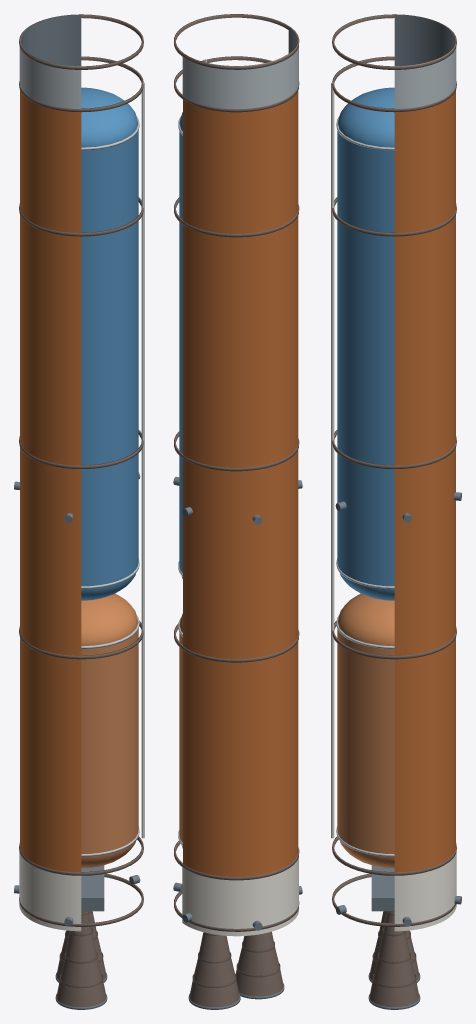
Rendered from atlas_v_core_cutaway.glb.
The picture shows the model from 3 angles, left to right: view 1: azimuth 90°, elevation 25°; view 2: azimuth 210°, elevation 25°; view 3: azimuth 270°, elevation 25°; orthographic projection.
Visible parts, largest first — view 1: atlas_v_core.mesh_Spray-on_insulation, atlas_v_core.cutaway.mesh_Cutaway_liquid_oxygen, atlas_v_core.cutaway.mesh_Cutaway_propellant, atlas_v_core.mesh_Heat-stained_alloy, atlas_v_core.mesh_Warm_white_enamel, atlas_v_core.rd180.chamber_01.bell.mesh_Heat-stained_alloy, atlas_v_core.mesh_Pale_thermal_blanket, atlas_v_core.mesh_Machined_steel, atlas_v_core.mesh_Satin_aluminum, atlas_v_core.rd180.mesh_Machined_steel, atlas_v_core.cutaway.mesh_Satin_aluminum, atlas_v_core.rd180.chamber_02.bell.mesh_Heat-stained_alloy; view 2: atlas_v_core.mesh_Spray-on_insulation, atlas_v_core.mesh_Warm_white_enamel, atlas_v_core.mesh_Satin_aluminum, atlas_v_core.mesh_Heat-stained_alloy, atlas_v_core.rd180.chamber_02.bell.mesh_Heat-stained_alloy, atlas_v_core.rd180.chamber_01.bell.mesh_Heat-stained_alloy, atlas_v_core.cutaway.mesh_Cutaway_liquid_oxygen, atlas_v_core.cutaway.mesh_Cutaway_propellant, atlas_v_core.mesh_Machined_steel; view 3: atlas_v_core.mesh_Spray-on_insulation, atlas_v_core.cutaway.mesh_Cutaway_liquid_oxygen, atlas_v_core.cutaway.mesh_Cutaway_propellant, atlas_v_core.mesh_Heat-stained_alloy, atlas_v_core.mesh_Warm_white_enamel, atlas_v_core.rd180.chamber_02.bell.mesh_Heat-stained_alloy, atlas_v_core.mesh_Machined_steel, atlas_v_core.mesh_Pale_thermal_blanket, atlas_v_core.mesh_Satin_aluminum, atlas_v_core.rd180.mesh_Machined_steel, atlas_v_core.cutaway.mesh_Satin_aluminum, atlas_v_core.rd180.chamber_01.bell.mesh_Heat-stained_alloy.
Part boxes in pixels (x1,y1,x2,y2): atlas_v_core.mesh_Spray-on_insulation: (20,43,81,872); atlas_v_core.cutaway.mesh_Cutaway_liquid_oxygen: (81,87,138,600); atlas_v_core.cutaway.mesh_Cutaway_propellant: (81,593,138,868); atlas_v_core.mesh_Heat-stained_alloy: (19,14,143,926); atlas_v_core.mesh_Warm_white_enamel: (19,852,81,931); atlas_v_core.rd180.chamber_01.bell.mesh_Heat-stained_alloy: (56,911,106,1007); atlas_v_core.mesh_Pale_thermal_blanket: (141,82,144,838); atlas_v_core.mesh_Machined_steel: (14,14,140,926); atlas_v_core.mesh_Satin_aluminum: (19,44,81,108); atlas_v_core.rd180.mesh_Machined_steel: (81,865,104,911); atlas_v_core.cutaway.mesh_Satin_aluminum: (81,116,139,856); atlas_v_core.rd180.chamber_02.bell.mesh_Heat-stained_alloy: (56,911,106,980); atlas_v_core.mesh_Spray-on_insulation: (183,42,298,876); atlas_v_core.mesh_Warm_white_enamel: (182,857,298,936); atlas_v_core.mesh_Satin_aluminum: (182,43,298,109); atlas_v_core.mesh_Heat-stained_alloy: (174,14,299,931); atlas_v_core.rd180.chamber_02.bell.mesh_Heat-stained_alloy: (189,932,239,1007); atlas_v_core.rd180.chamber_01.bell.mesh_Heat-stained_alloy: (235,931,283,996); atlas_v_core.cutaway.mesh_Cutaway_liquid_oxygen: (179,112,182,578); atlas_v_core.cutaway.mesh_Cutaway_propellant: (179,613,182,848); atlas_v_core.mesh_Machined_steel: (173,27,302,930); atlas_v_core.mesh_Spray-on_insulation: (394,43,455,872); atlas_v_core.cutaway.mesh_Cutaway_liquid_oxygen: (337,87,394,600); atlas_v_core.cutaway.mesh_Cutaway_propellant: (337,593,394,868); atlas_v_core.mesh_Heat-stained_alloy: (332,14,456,926); atlas_v_core.mesh_Warm_white_enamel: (394,852,456,931); atlas_v_core.rd180.chamber_02.bell.mesh_Heat-stained_alloy: (369,911,419,1007); atlas_v_core.mesh_Machined_steel: (335,14,461,926); atlas_v_core.mesh_Pale_thermal_blanket: (331,82,334,838); atlas_v_core.mesh_Satin_aluminum: (394,44,456,108); atlas_v_core.rd180.mesh_Machined_steel: (371,865,394,911); atlas_v_core.cutaway.mesh_Satin_aluminum: (336,116,394,856); atlas_v_core.rd180.chamber_01.bell.mesh_Heat-stained_alloy: (369,911,419,980).
Bounding box in the file's own units: 4.18 × 32.41 × 4.06.
